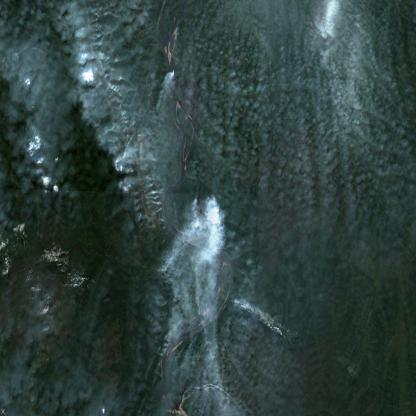fire: (191, 193, 221, 236)
